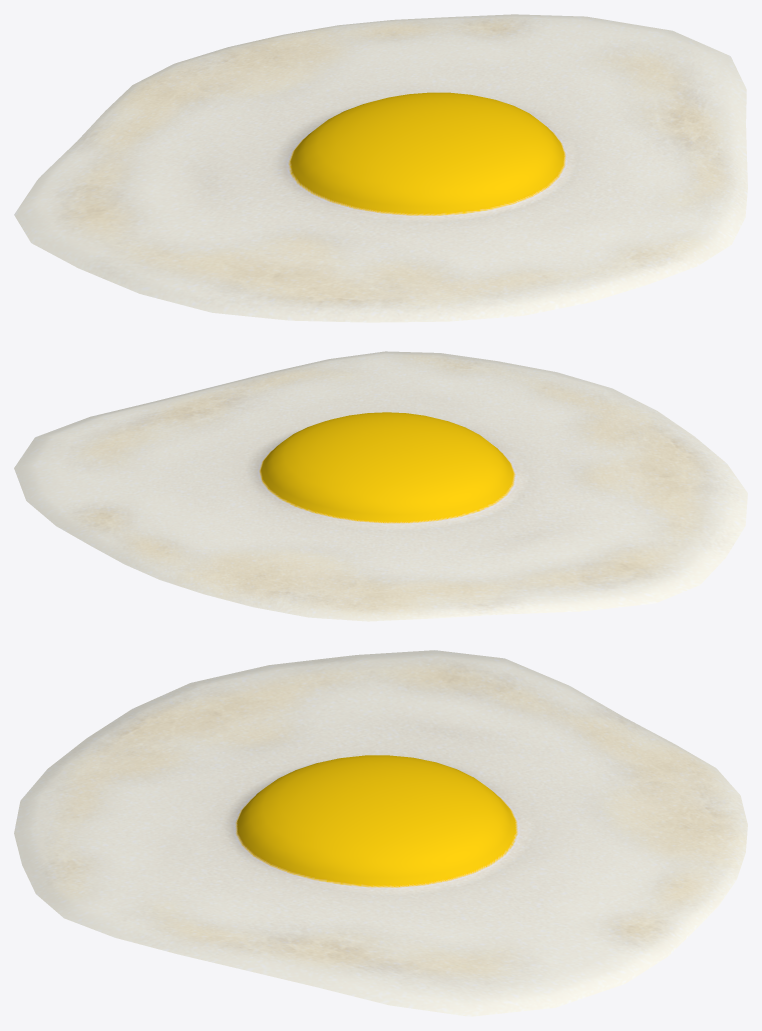
Rendered from Egg_Cracked_18.obj.
3 renders of one model, top to bottom at view 1: azimuth 30°, elevation 25°; view 2: azimuth 150°, elevation 25°; view 3: azimuth 270°, elevation 25°, orthographic. The views are drawn at different scales.
Visible parts, largest first — view 1: fried_egg_17; view 2: fried_egg_17; view 3: fried_egg_17.
Boxes of the visible parts, <box> form: fried_egg_17: <box>14,14,747,322</box>; fried_egg_17: <box>14,351,747,621</box>; fried_egg_17: <box>14,650,747,1016</box>.
Bounding box in the file's own units: 0.1662 × 0.0107 × 0.1406.
